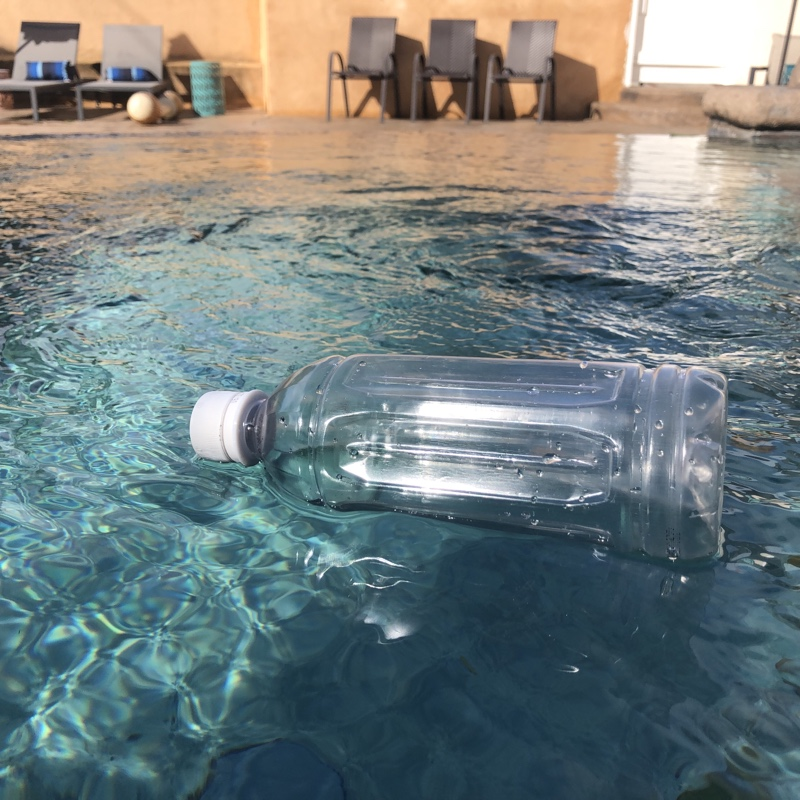Plastic Bottle: (181, 349, 732, 575)
